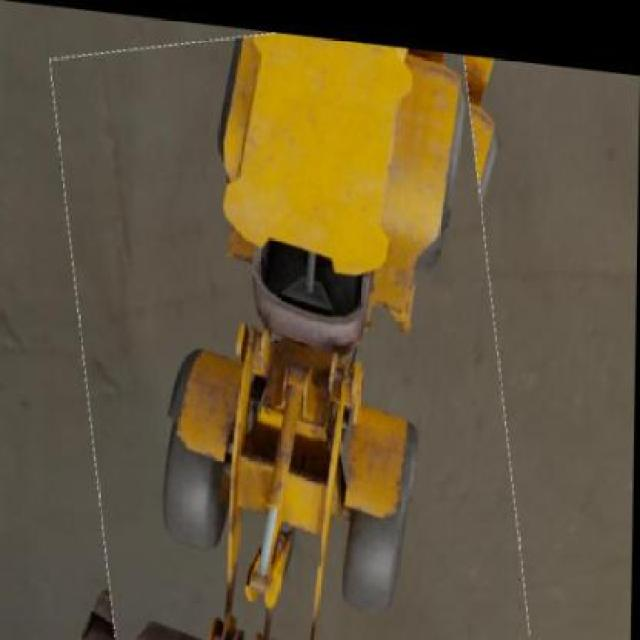buldozerpayloadergrader: (140, 55, 468, 640)
